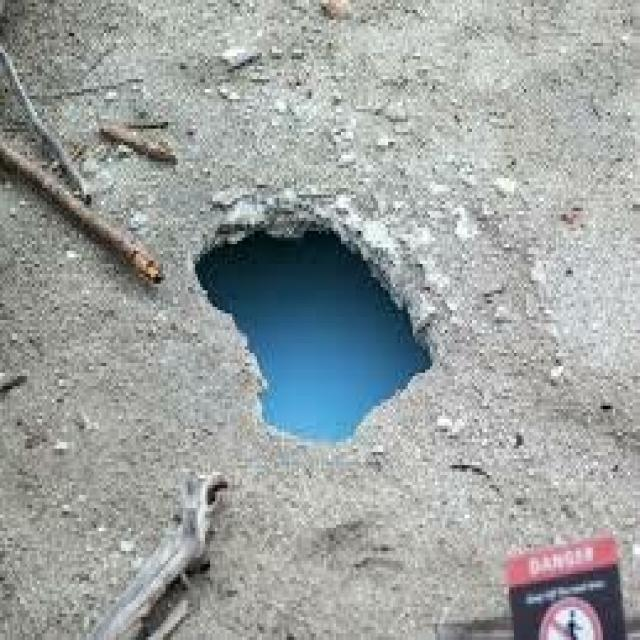Pothole: (138, 148, 472, 485)
